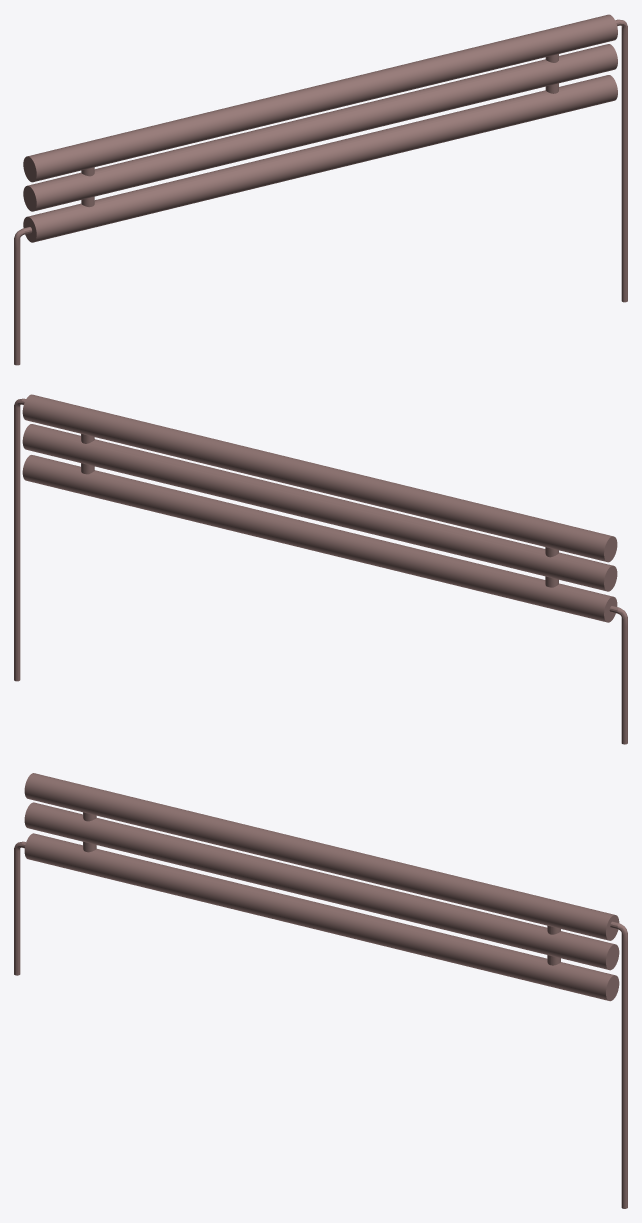
Rendered from Radiator.fbx.
The picture shows the model from 3 angles, top to bottom: view 1: azimuth 30°, elevation 25°; view 2: azimuth 150°, elevation 25°; view 3: azimuth 330°, elevation 25°; orthographic projection.
Visible parts, largest first — view 1: Radiator_LOD0; view 2: Radiator_LOD0; view 3: Radiator_LOD0.
Boxes of the visible parts, x1,y1,x2,y2 form: Radiator_LOD0: (14, 14, 627, 365); Radiator_LOD0: (14, 394, 627, 744); Radiator_LOD0: (14, 773, 627, 1208).
Size of what is drawn, in the model's own units: 413 by 186 by 15.56.
